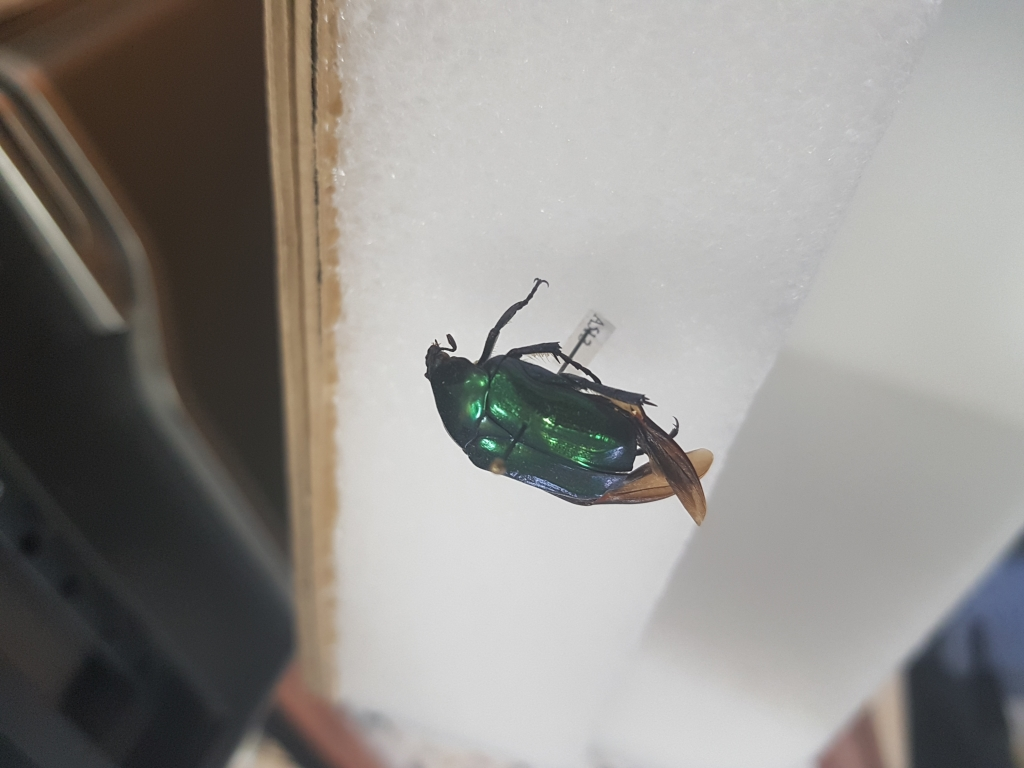Protaetia_angustata_angustata: (422, 266, 732, 521)
